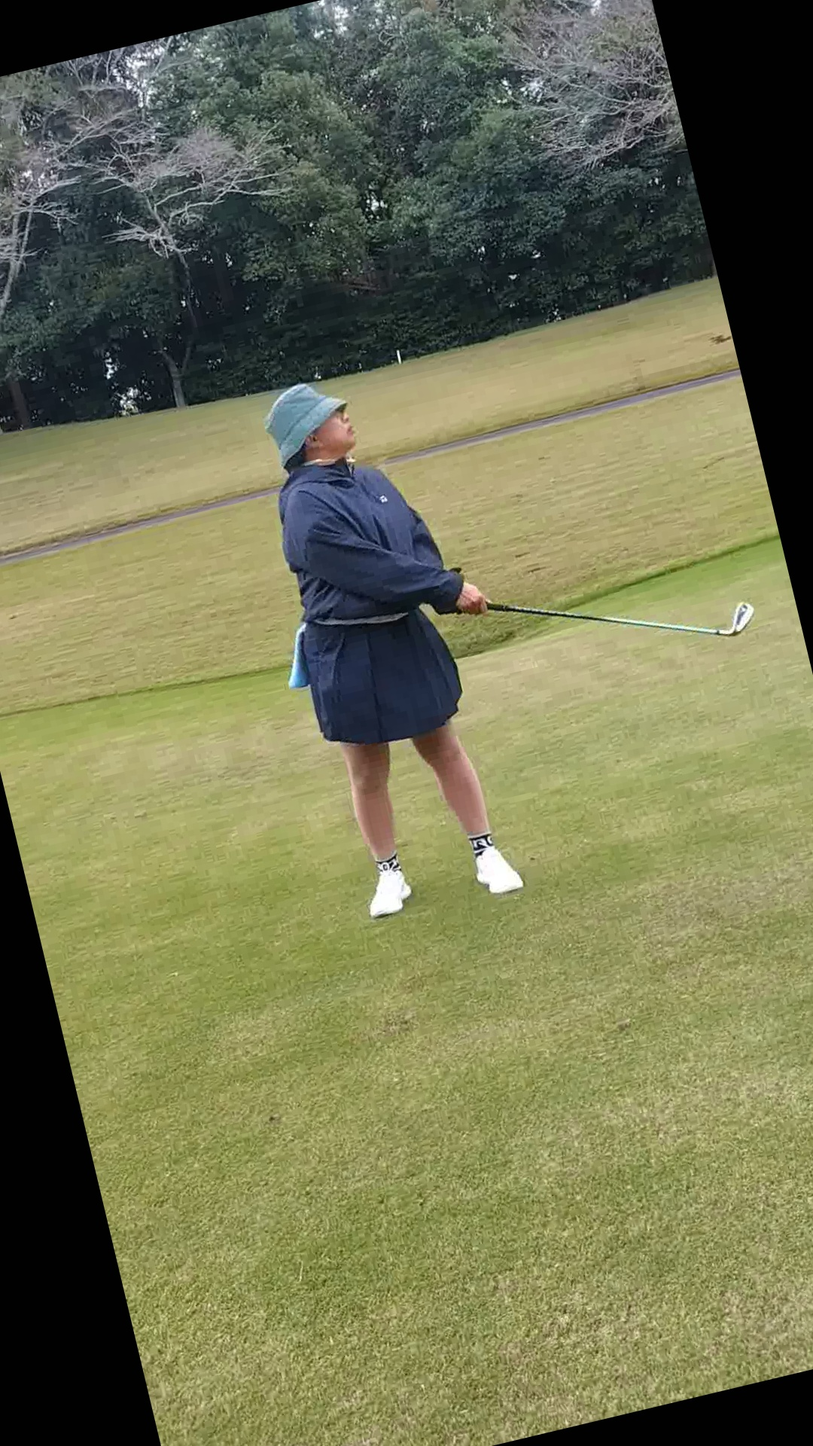clubhead: (665, 545, 788, 721)
